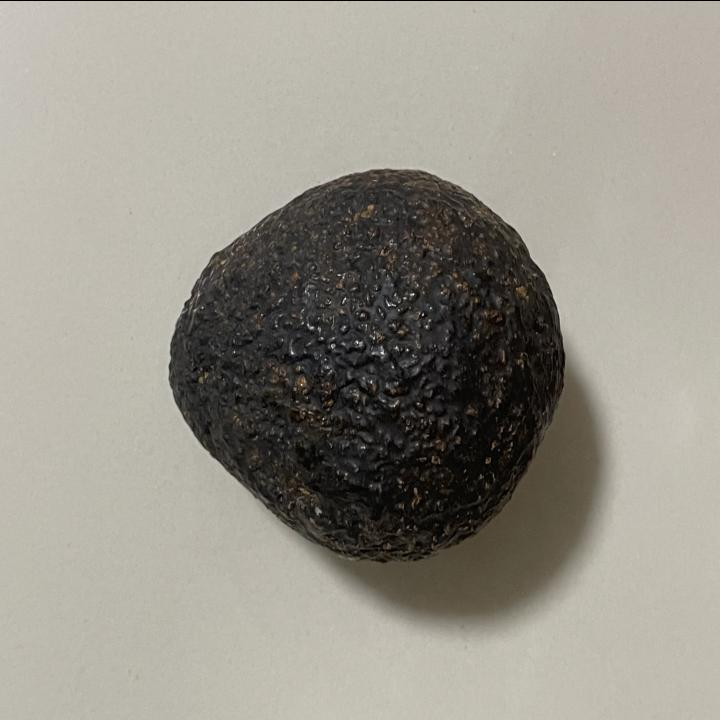Level2: (157, 160, 570, 572)
